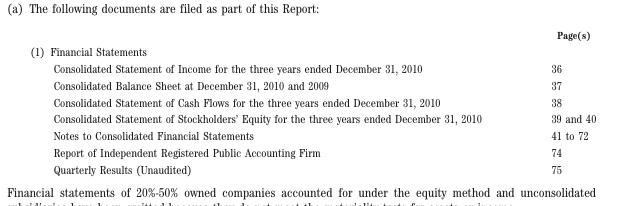table: (29, 28, 595, 175)
table column: (29, 28, 515, 175), (515, 28, 595, 175)
table column header: (29, 28, 595, 42)
table projected row header: (29, 42, 595, 59)
table row: (29, 42, 595, 59), (29, 59, 595, 76), (29, 76, 595, 93), (29, 109, 595, 126), (29, 126, 595, 143), (29, 143, 595, 160), (29, 93, 595, 109), (29, 160, 595, 175), (29, 28, 595, 42)
